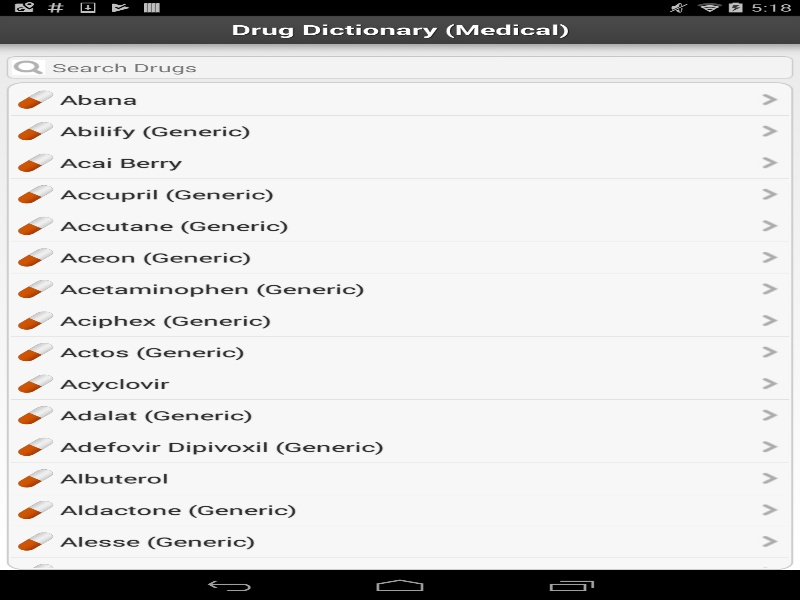Input: (45, 56, 792, 78)
